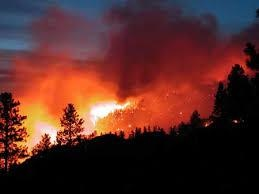fire: (80, 93, 134, 131)
